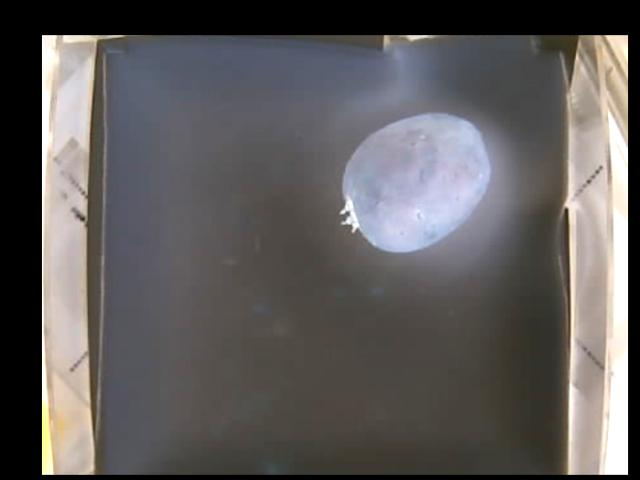Potato: (338, 110, 491, 257)
